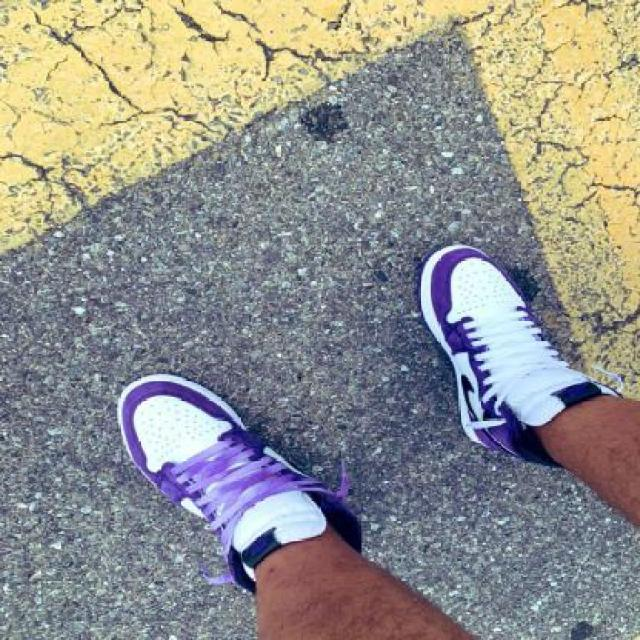shoe: (115, 374, 372, 569), (414, 243, 626, 465)
